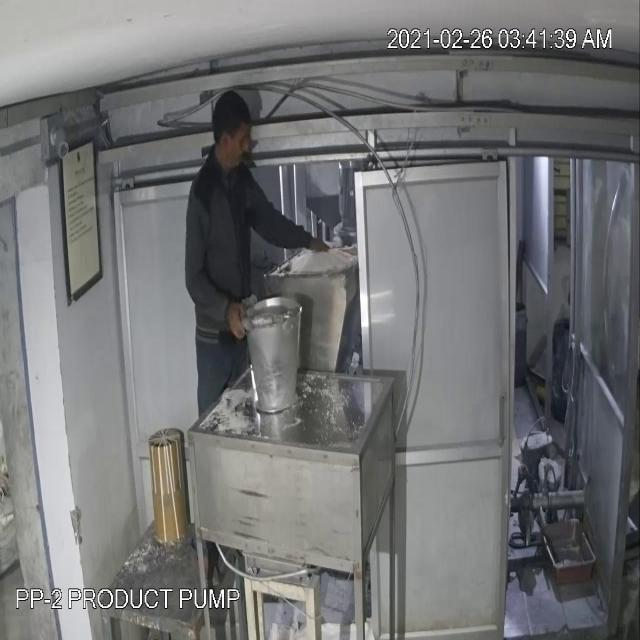no-helmet: (210, 86, 258, 182)
